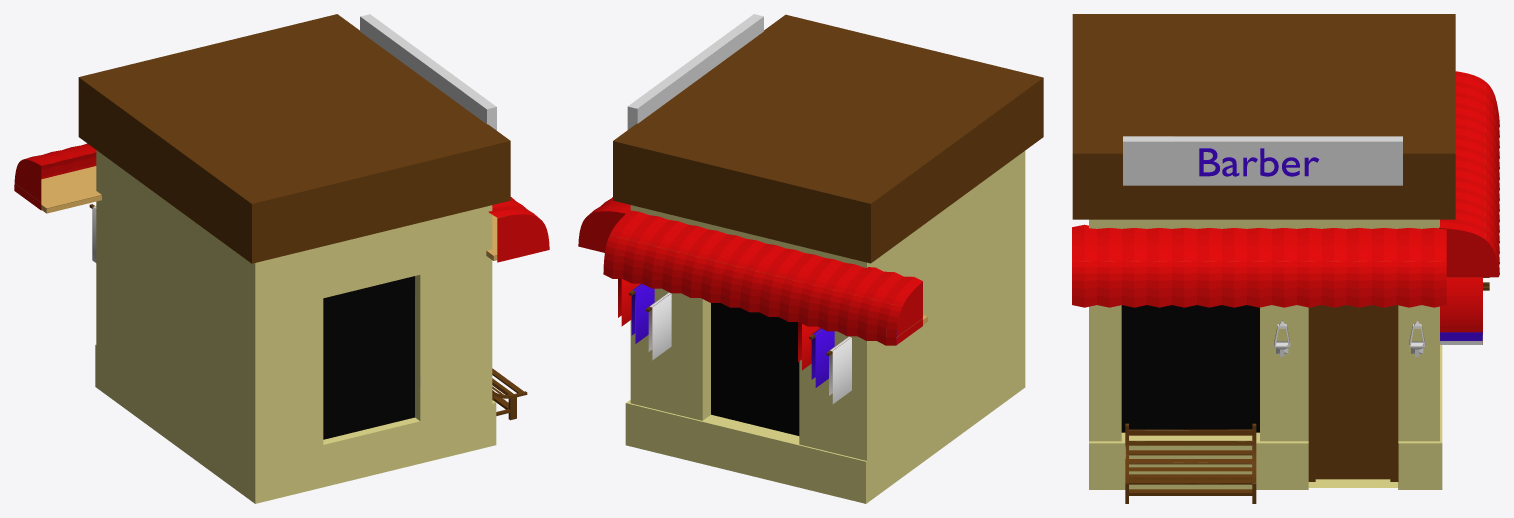
Rendered from barber.fbx.
3 views of the same model, side by side, from view 1: azimuth 30°, elevation 25°; view 2: azimuth 150°, elevation 25°; view 3: azimuth 270°, elevation 25° (orthographic). The views are drawn at different scales.
Visible parts, largest first — view 1: Cube.027_Cube.029; view 2: Cube.027_Cube.029; view 3: Cube.027_Cube.029.
Part boxes in pixels (x1=…): Cube.027_Cube.029: x1=14, y1=14, x2=549, y2=503; Cube.027_Cube.029: x1=578, y1=14, x2=1043, y2=503; Cube.027_Cube.029: x1=1072, y1=14, x2=1499, y2=503.
Size of the model in its own units: 415 by 372 by 404.
